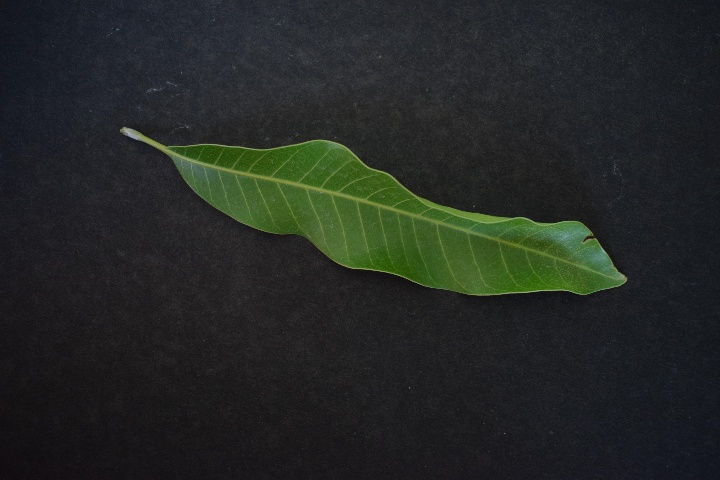healthy: (157, 126, 627, 305)
